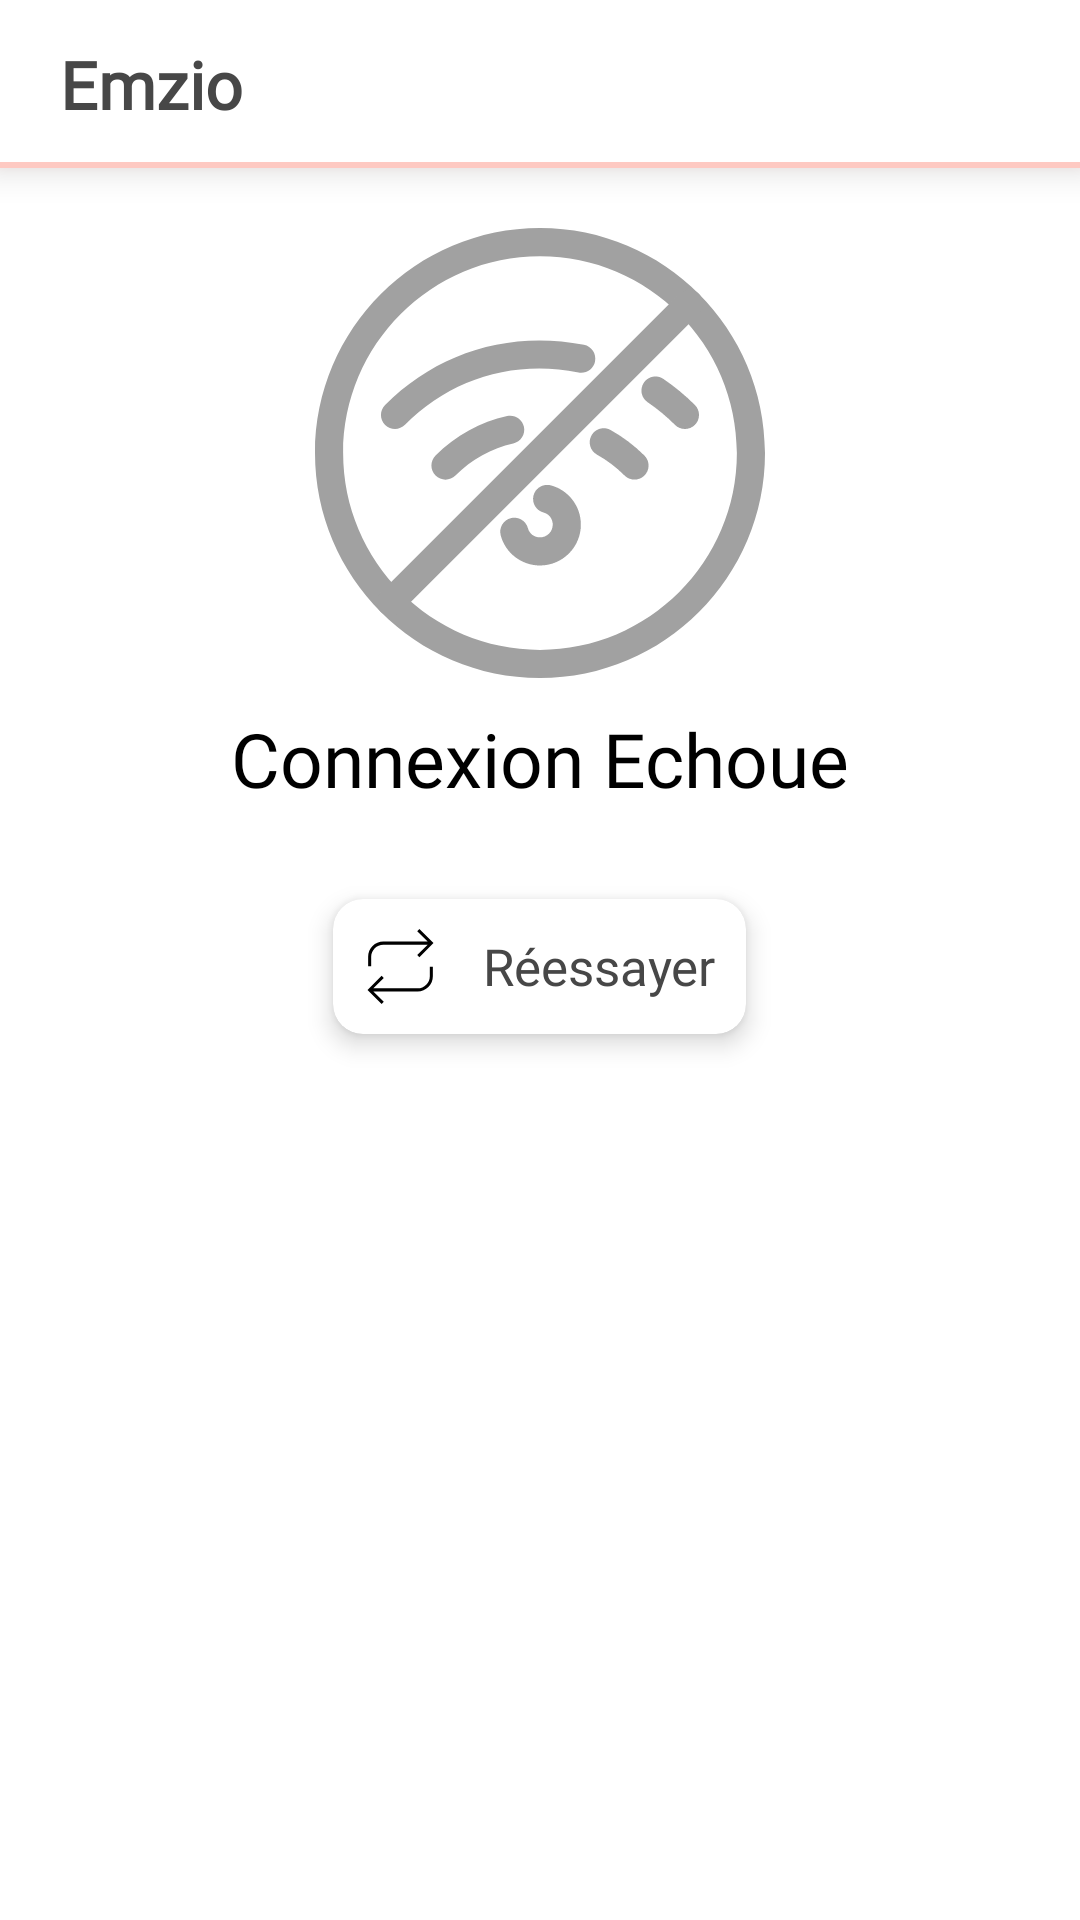

Icon click points for this 1080×1920 phone screenshot, format point (x, y):
replay: point (400, 966)
